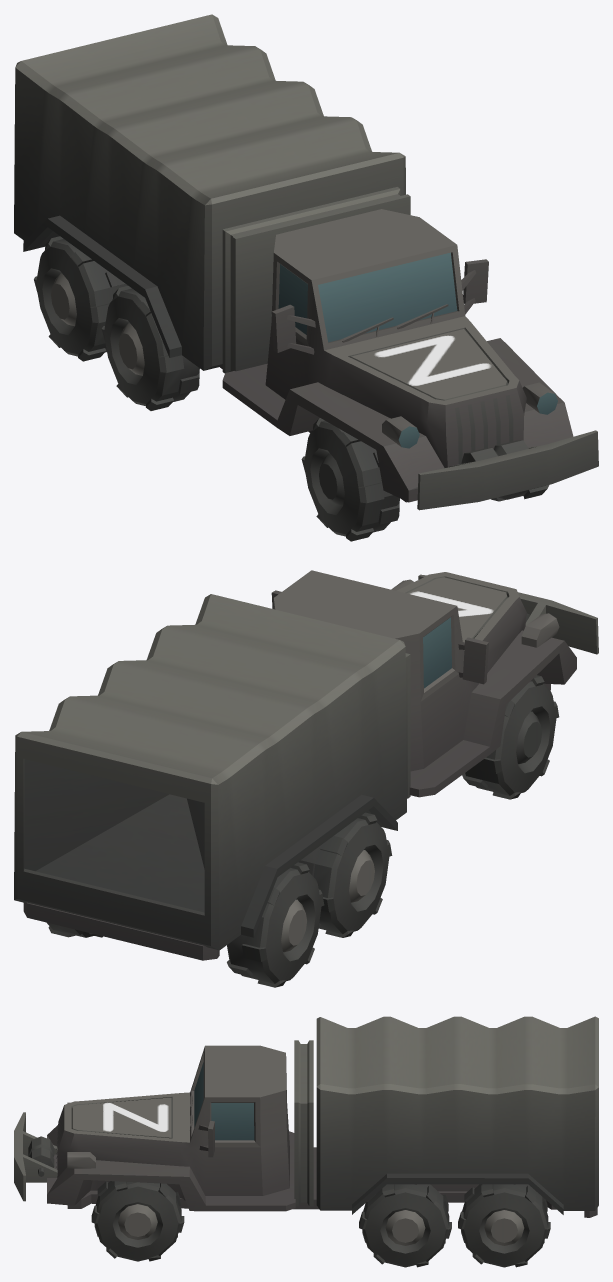
File: truk.fbx
3 views of the same model, one above another, from view 1: azimuth 30°, elevation 25°; view 2: azimuth 150°, elevation 25°; view 3: azimuth 270°, elevation 25° (orthographic). The views are drawn at different scales.
Visible parts, largest first — view 1: Truck, Whell_Right_1.001, Whell_Right_3.001, Whell_Right_2.001; view 2: Truck, Whell_Right_2.001, Whell_Right_3.001, Whell_Right_1.001; view 3: Truck, Whell_Left_3.001, Whell_Left_2.001, Whell_Left_1.001.
Part boxes in pixels (x1,y1,x2,y2): Truck: (14,14,598,510); Whell_Right_1.001: (301,418,399,541); Whell_Right_3.001: (34,236,127,361); Whell_Right_2.001: (101,285,199,410); Truck: (14,570,598,960); Whell_Right_2.001: (298,812,392,937); Whell_Right_3.001: (227,862,324,987); Whell_Right_1.001: (462,675,559,799); Truck: (14,1016,598,1217); Whell_Left_3.001: (458,1184,550,1267); Whell_Left_2.001: (359,1184,451,1267); Whell_Left_1.001: (91,1181,184,1261).
Bounding box in the file's own units: 301 × 298 × 877.
